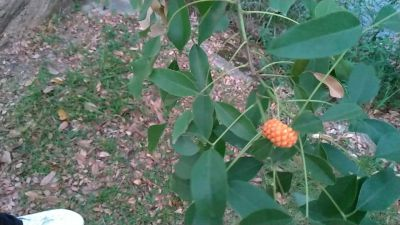eggs: (258, 118, 302, 151)
